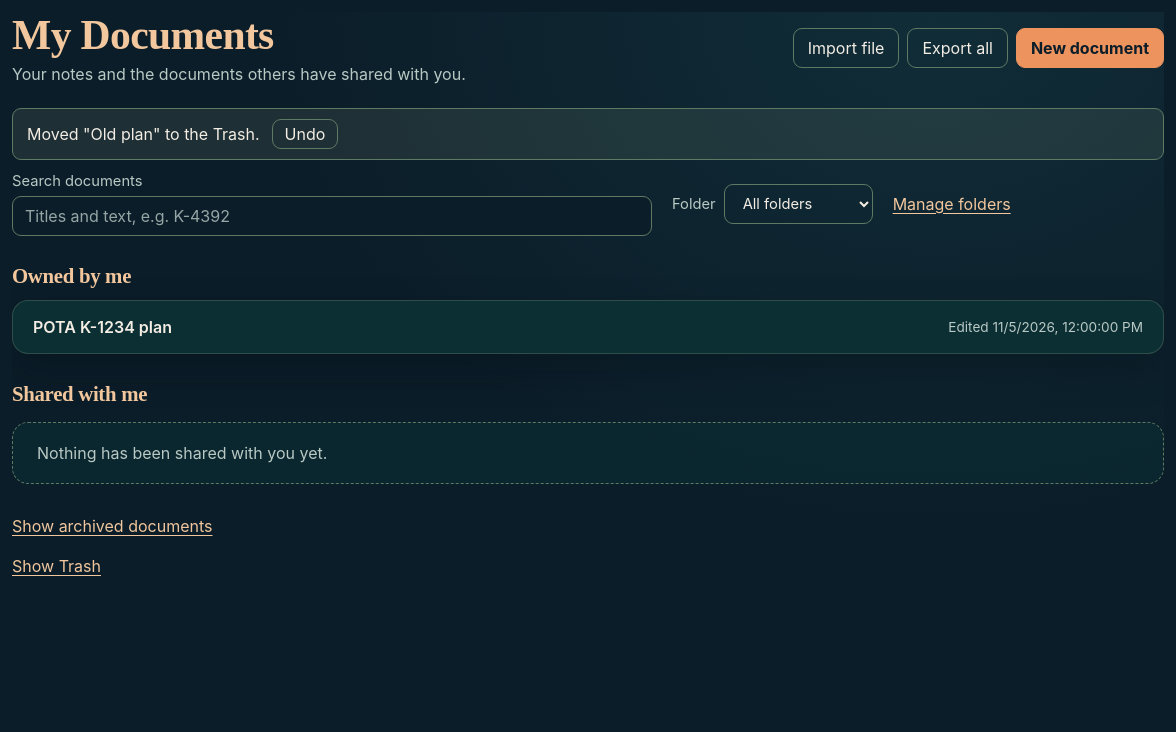
Trash › offers Undo after a document was moved to the Trash
expect the text "Moved \"Old plan\" to the Trash." is shown: met, box [27,124,260,144]
Click the button "Undo". click: (305, 134)
box: [272,119,338,149]
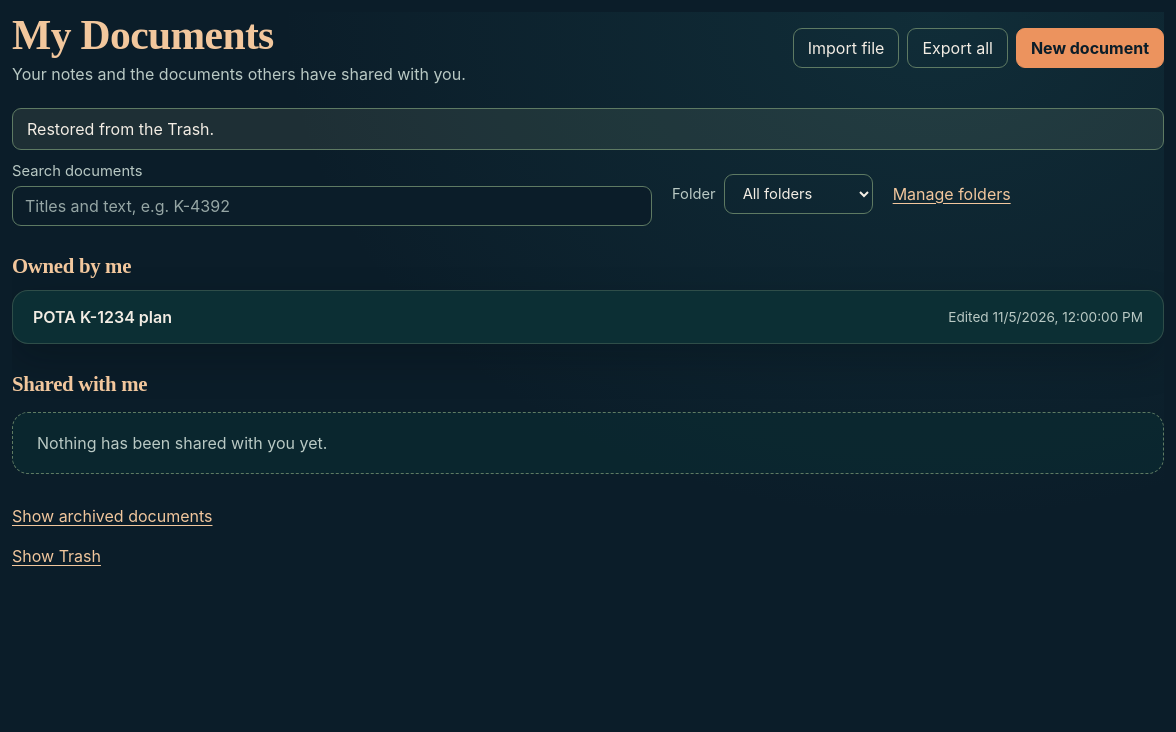
expect the text "Restored from the Trash." is shown: met, box [27,119,214,139]
expect the button "Undo" is gone: met
